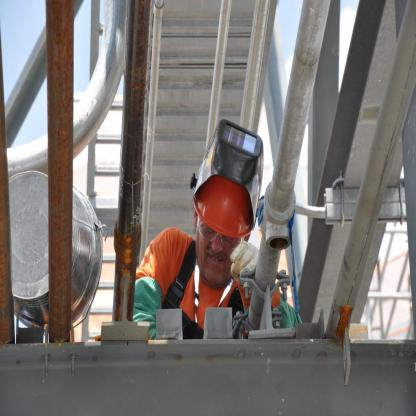Helmet: (192, 137, 262, 282)
